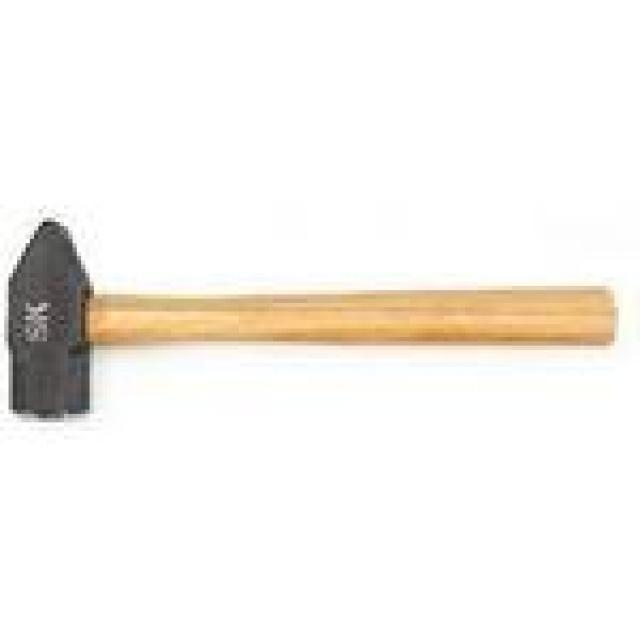hammer: (0, 210, 620, 412)
